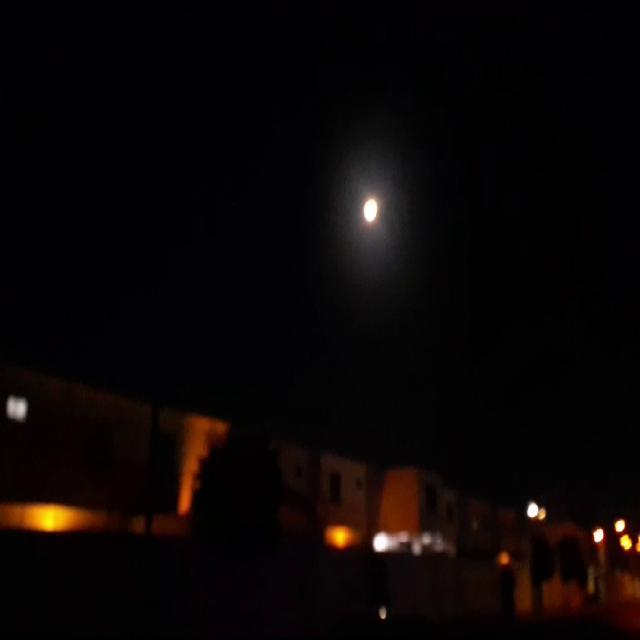moon: (356, 193, 379, 227)
